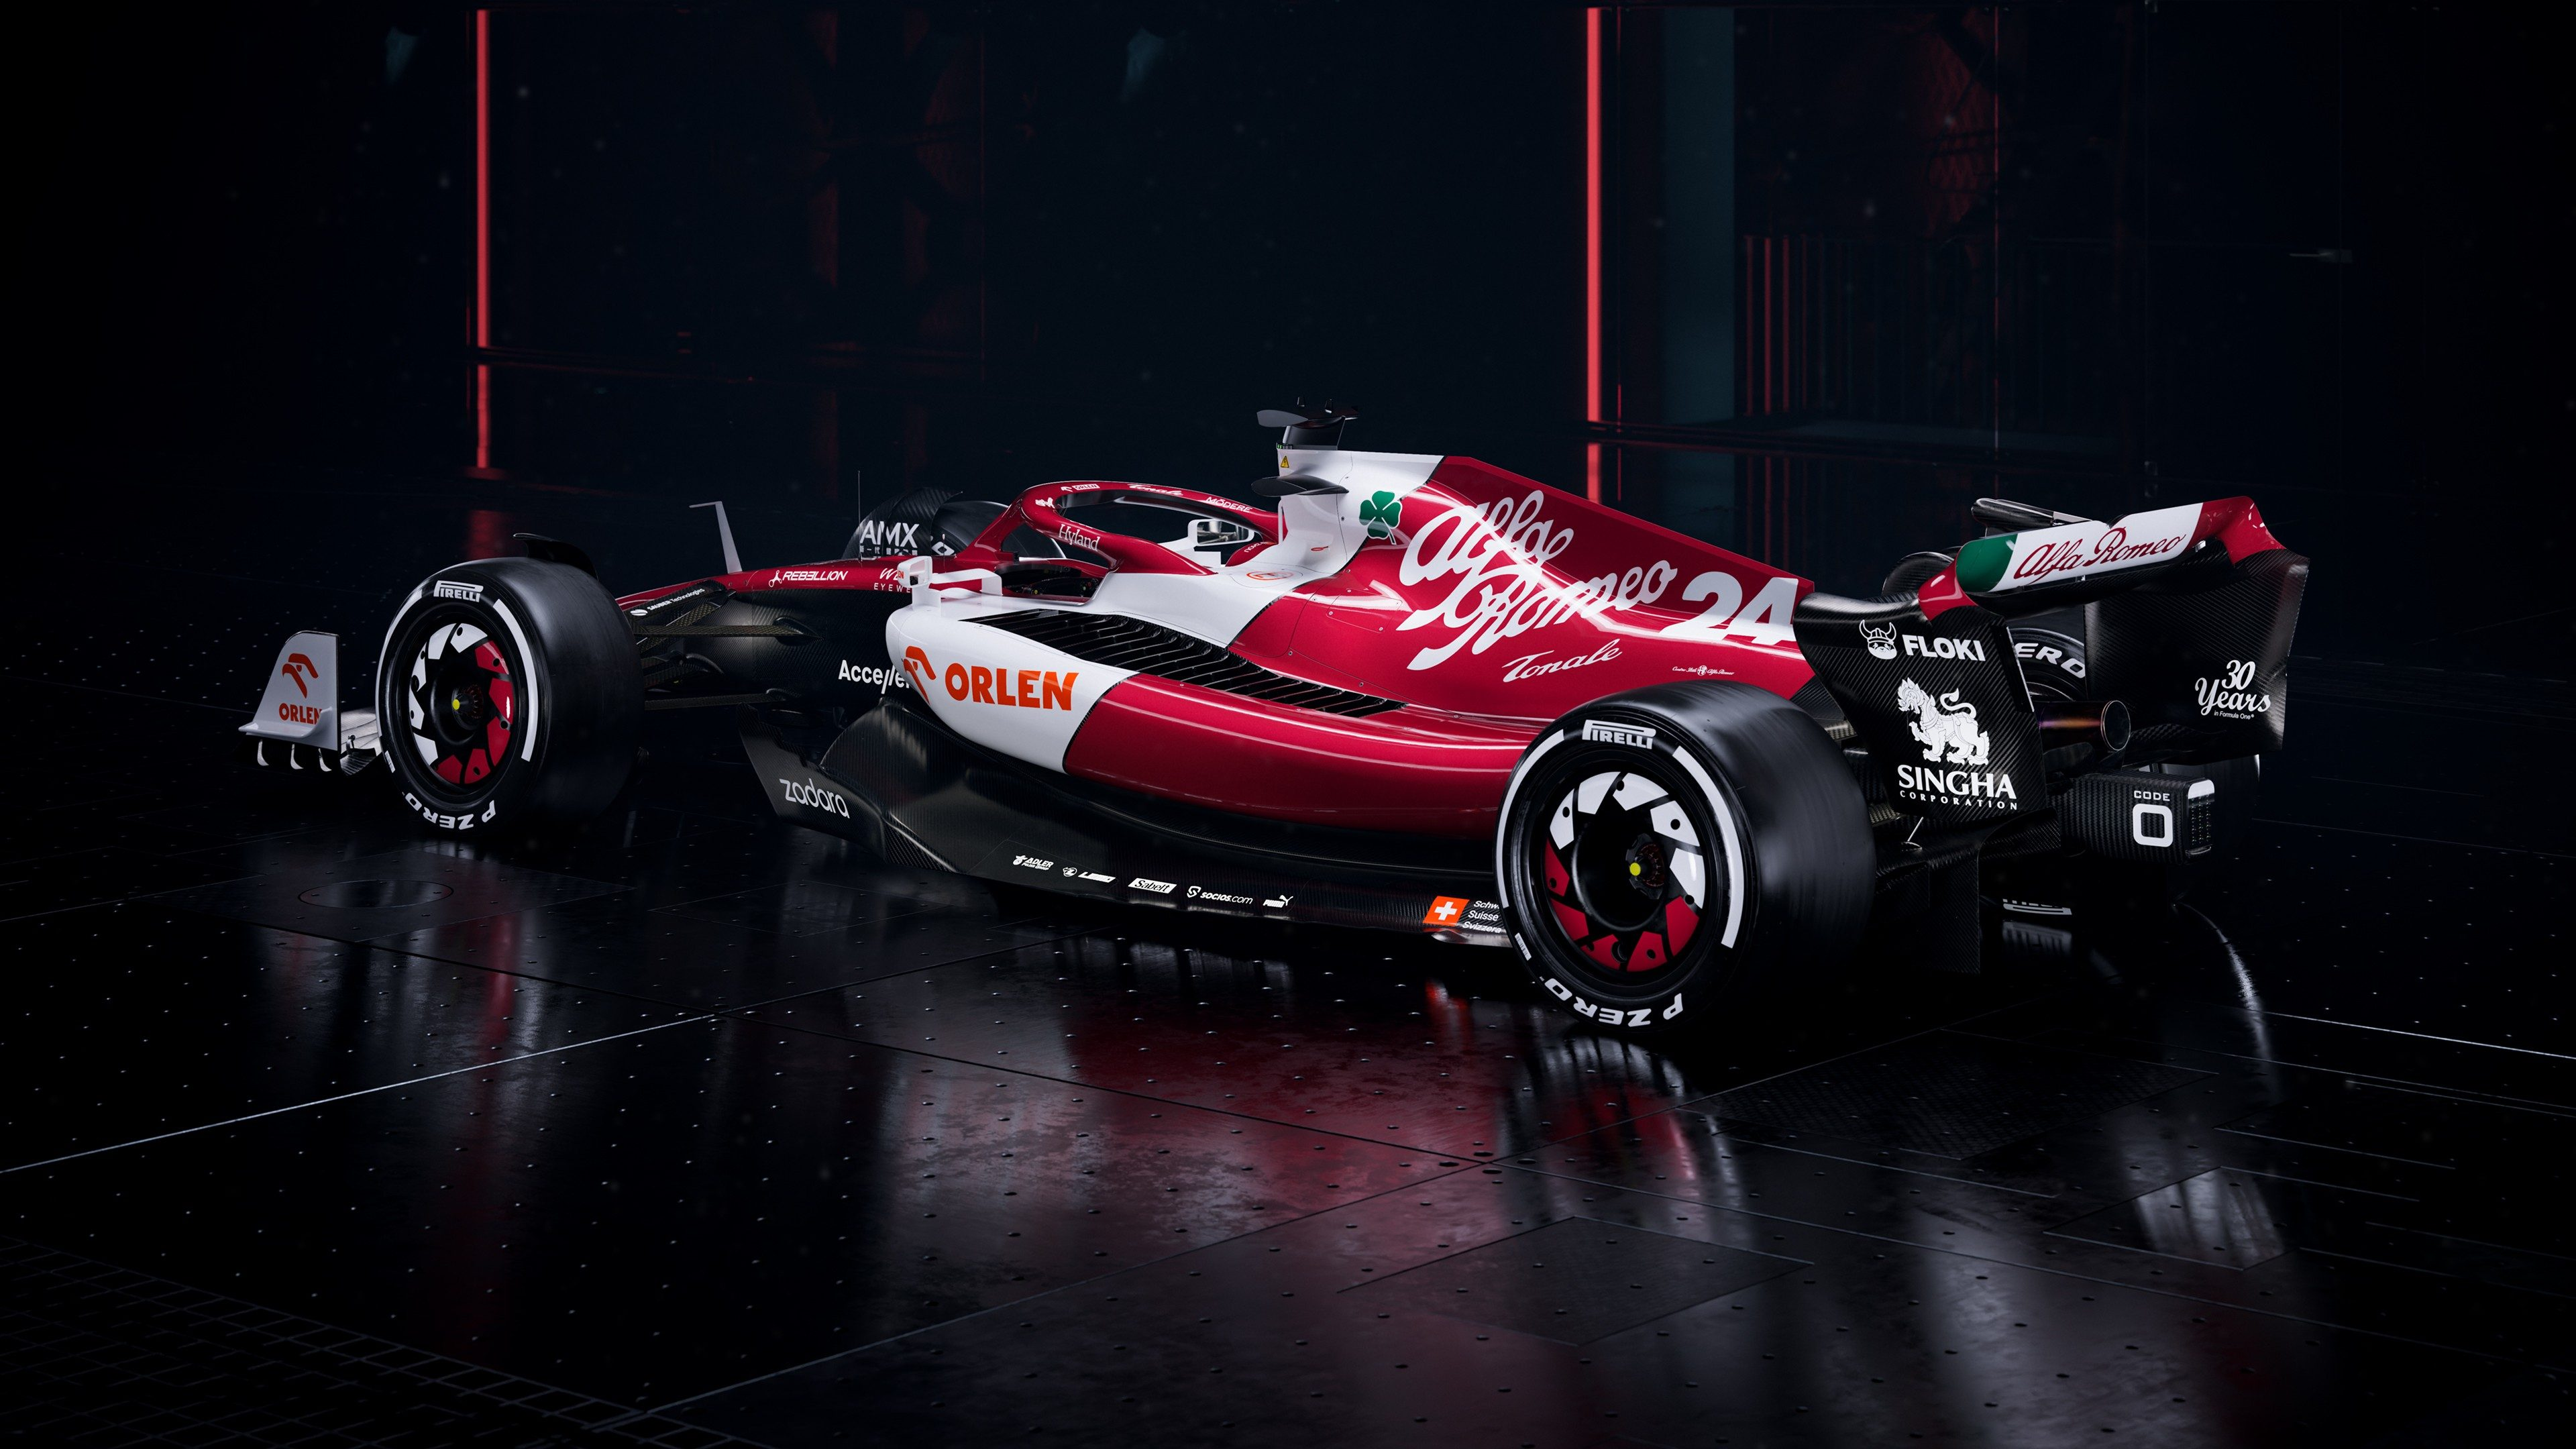Formule 1: (235, 442, 2309, 1031)
